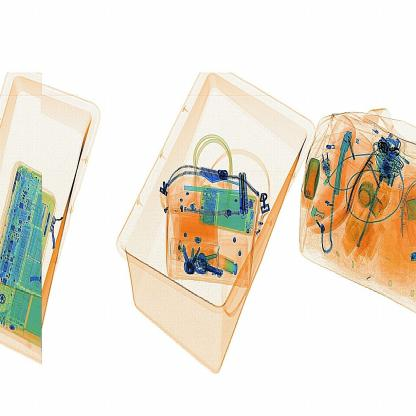scissors: (236, 170, 251, 215)
